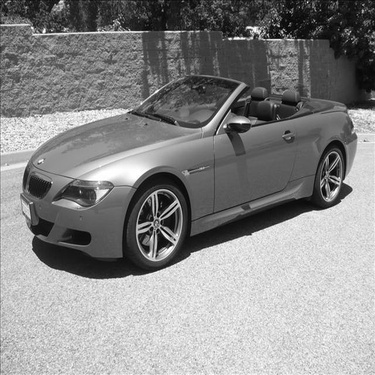car: (13, 63, 360, 278)
